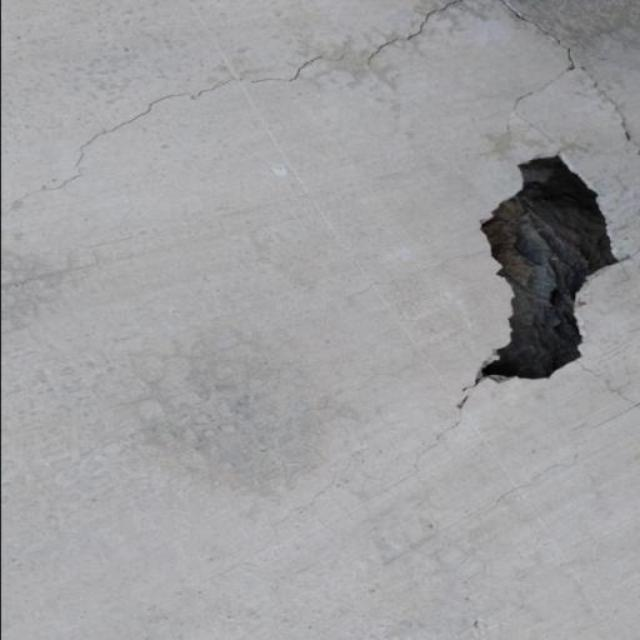D10: (478, 154, 617, 380)
